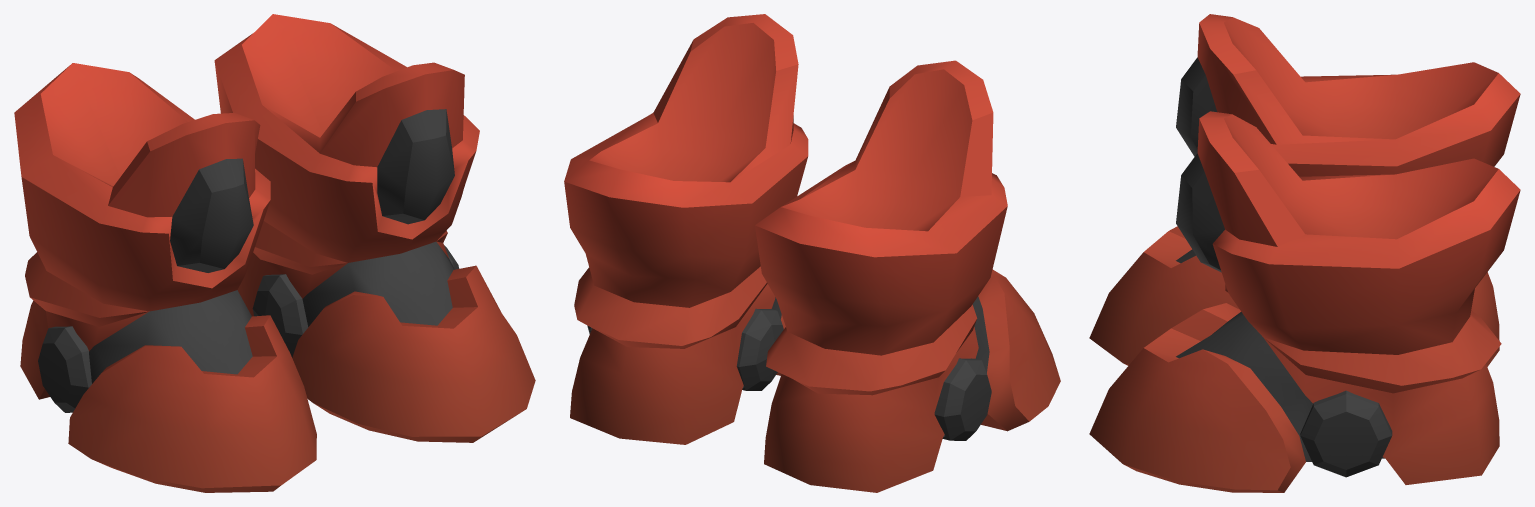
File: Shoes_49.fbx
The picture shows the model from 3 angles, left to right: view 1: azimuth 30°, elevation 25°; view 2: azimuth 150°, elevation 25°; view 3: azimuth 270°, elevation 25°; orthographic projection. The views are drawn at different scales.
Parts seen in each view (by area): view 1: Shoes_49; view 2: Shoes_49; view 3: Shoes_49.
Part boxes in pixels (x1,y1,x2,y2): Shoes_49: (14, 14, 535, 492); Shoes_49: (564, 14, 1060, 492); Shoes_49: (1089, 14, 1520, 492).
Bounding box in the file's own units: 45.15 × 33.15 × 39.54.
